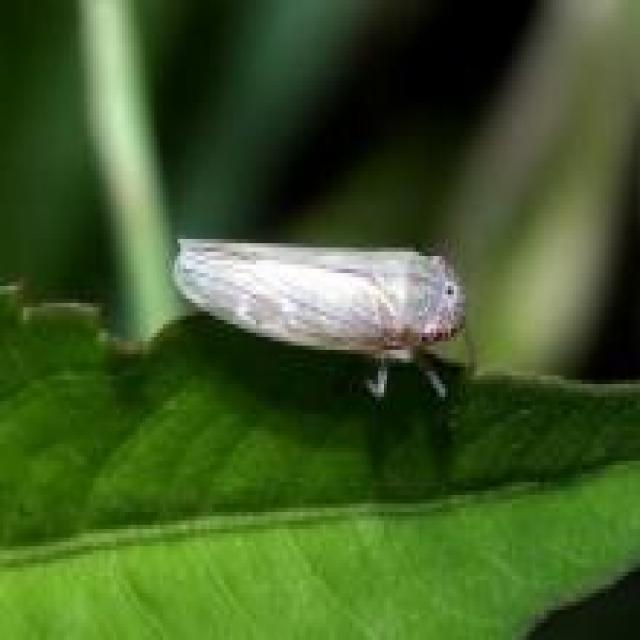Yechan: (160, 216, 490, 401)
